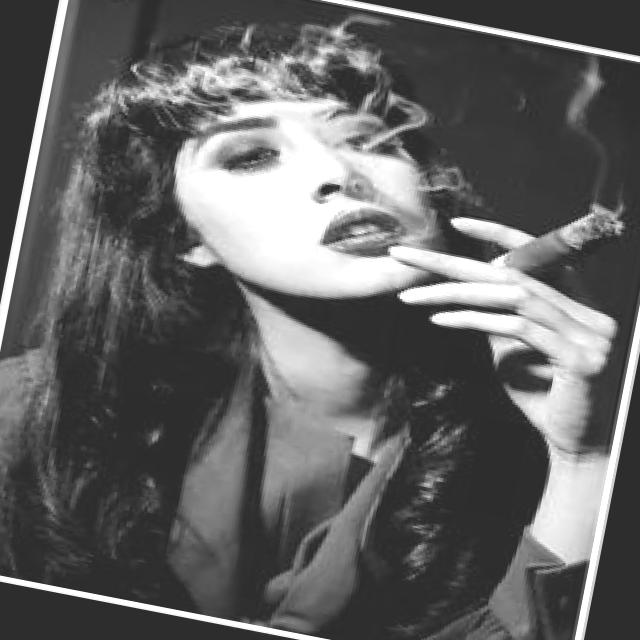smoke: (478, 181, 632, 296)
